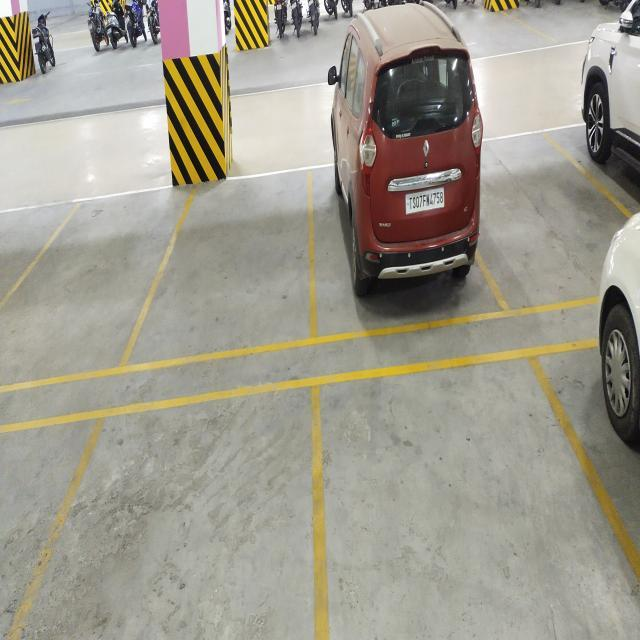car: (329, 169, 472, 292)
free: (320, 444, 530, 624), (84, 439, 236, 626), (172, 220, 292, 358), (488, 160, 588, 305), (51, 208, 137, 364)
